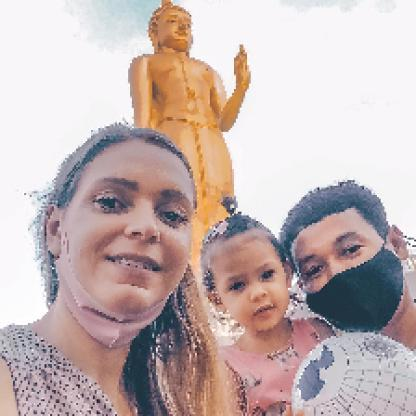child: (200, 196, 339, 415)
